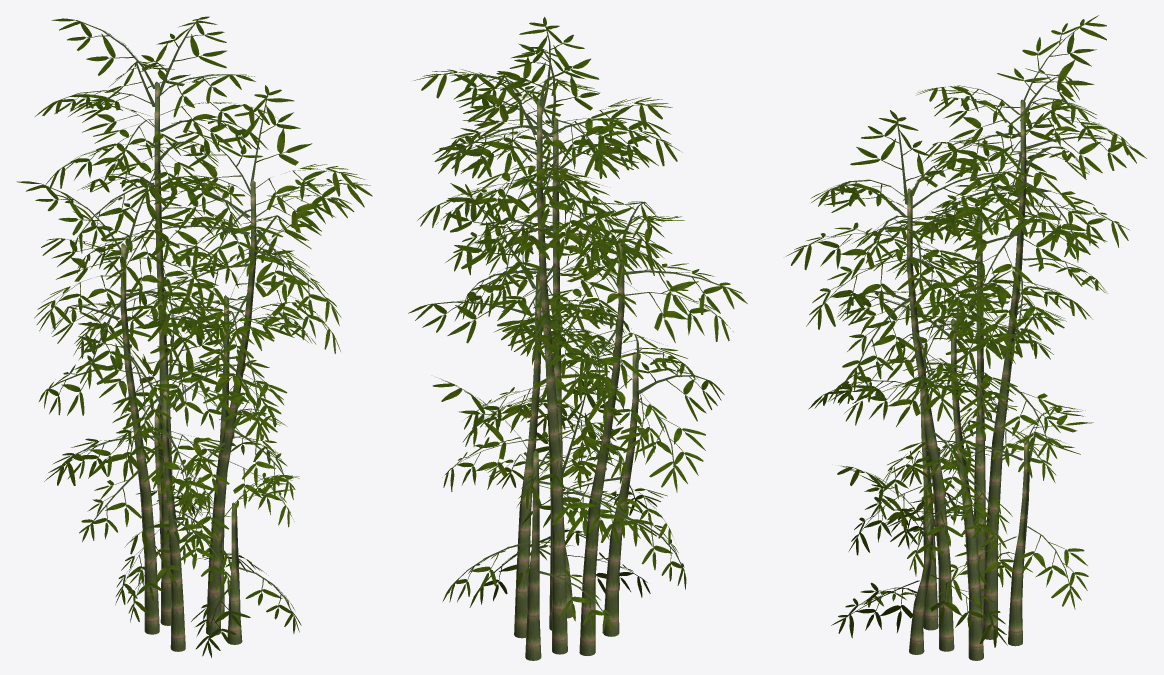
Rendered from bamboo.glb.
The picture shows the model from 3 angles, left to right: view 1: azimuth 30°, elevation 25°; view 2: azimuth 150°, elevation 25°; view 3: azimuth 270°, elevation 25°; orthographic projection. The views are drawn at different scales.
Parts seen in each view (by area): view 1: body; view 2: body; view 3: body.
Boxes of the visible parts, left/top/right/bottom form: body: left=16, top=16, right=372, bottom=657; body: left=408, top=17, right=747, bottom=660; body: left=785, top=15, right=1146, bottom=660.
Size of the model in its own units: 6.13 by 11 by 6.22.
Materials: 2 (2 with a texture image).
